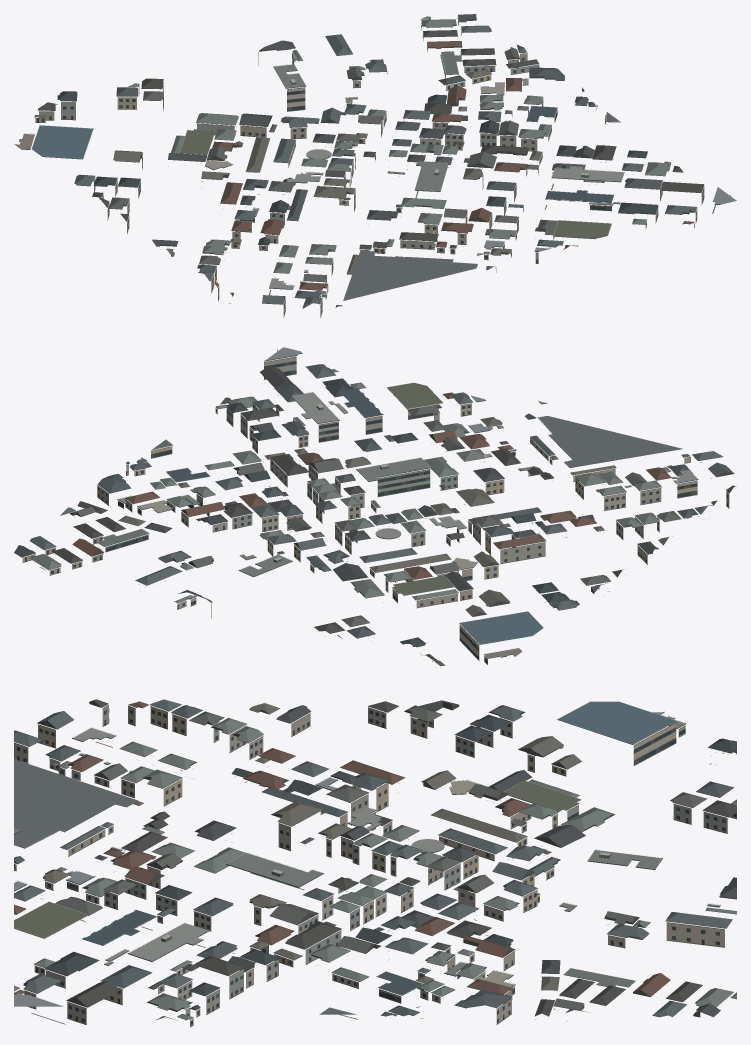
3 renders of one model, top to bottom at view 1: azimuth 30°, elevation 25°; view 2: azimuth 150°, elevation 25°; view 3: azimuth 270°, elevation 25°, orthographic. The views are drawn at different scales.
Visible parts, largest first — view 1: r2-c1; view 2: r2-c1; view 3: r2-c1.
Part boxes in pixels (left/top/right/bottom): r2-c1: left=14, top=14, right=736, bottom=317; r2-c1: left=14, top=347, right=736, bottom=666; r2-c1: left=14, top=699, right=736, bottom=1027.
Bounding box in the file's own units: 250 × 13.73 × 250.
